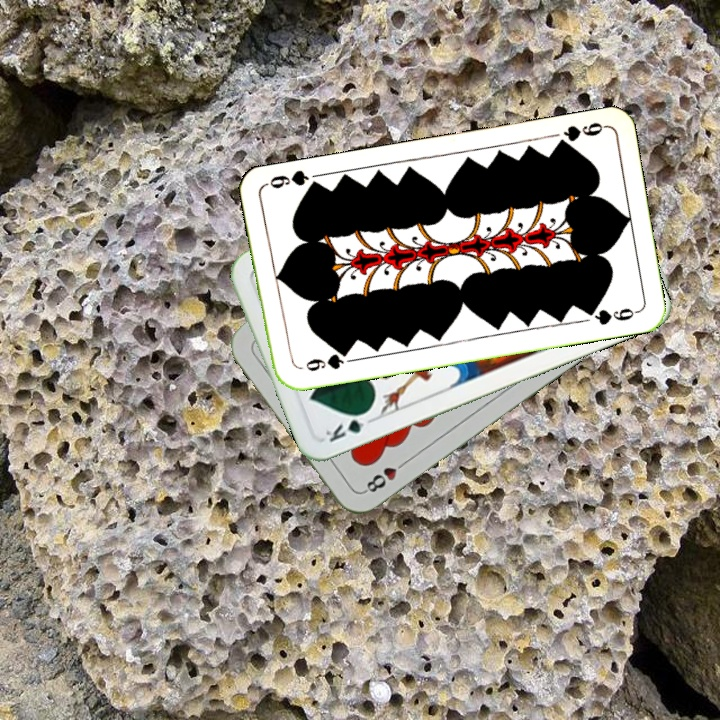G9: (551, 118, 608, 150), (301, 347, 352, 374)
GK: (321, 406, 378, 445)
H8: (359, 455, 411, 496)
